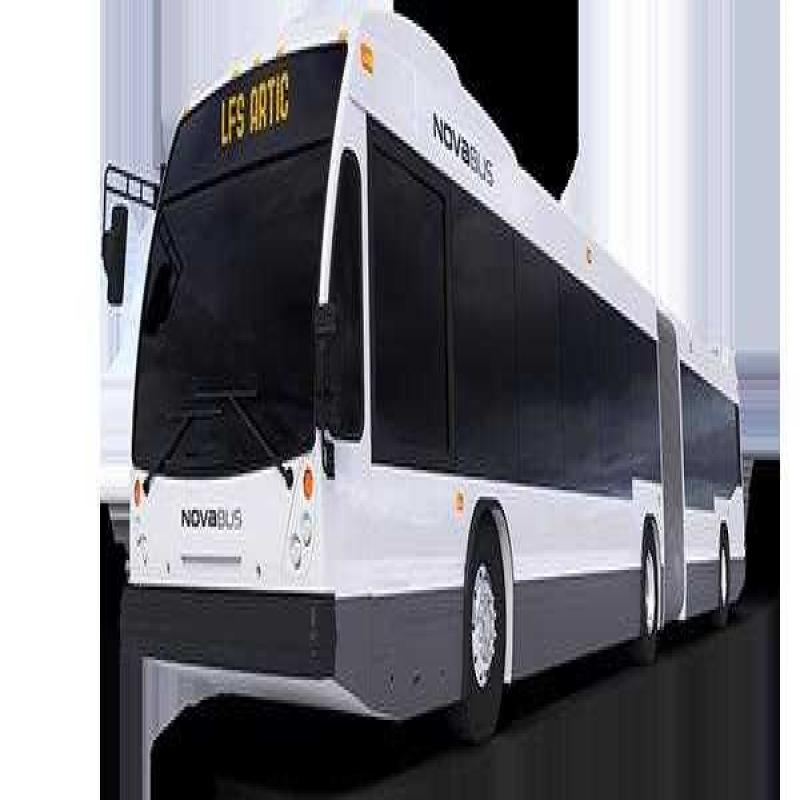bus: (115, 61, 744, 691)
